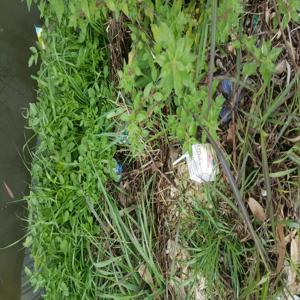cardboard: (180, 137, 228, 189)
plastic: (93, 151, 125, 177)
